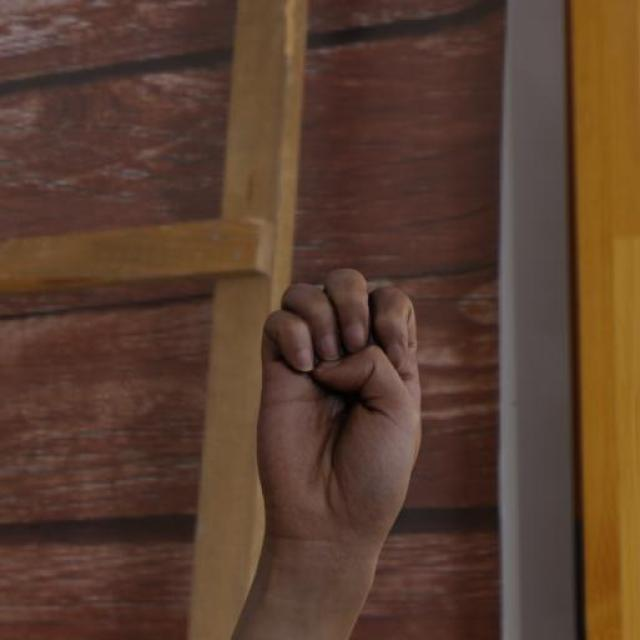E: (255, 264, 420, 555)
